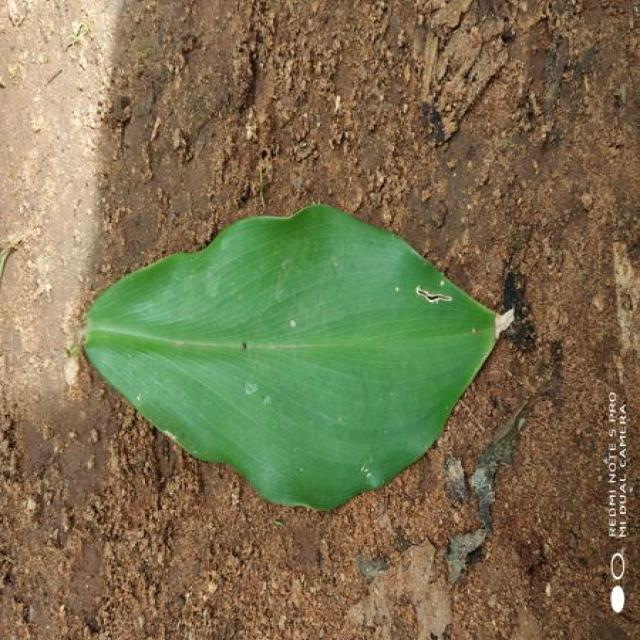insulin: (83, 205, 512, 509)
